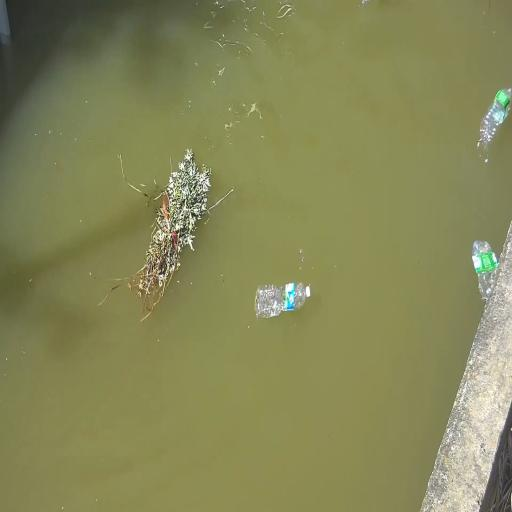plastic: (477, 88, 512, 162), (255, 283, 310, 318), (472, 241, 498, 299)
twig: (128, 149, 211, 318)
